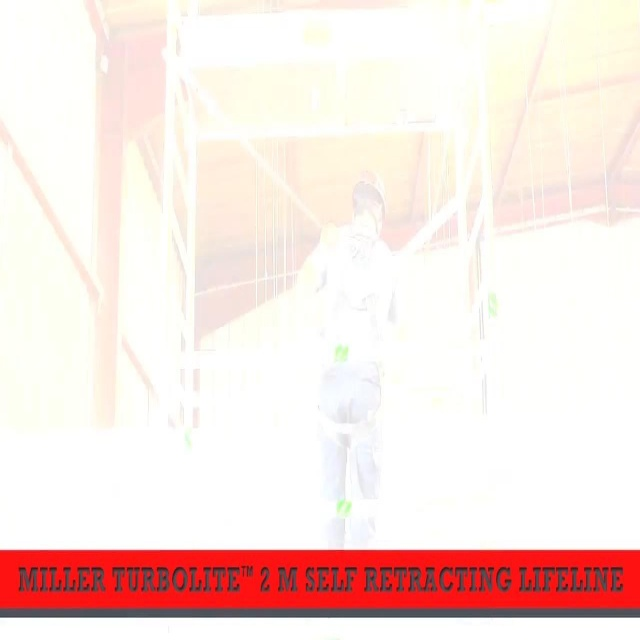Arnes_seguridad: (313, 219, 392, 456)
